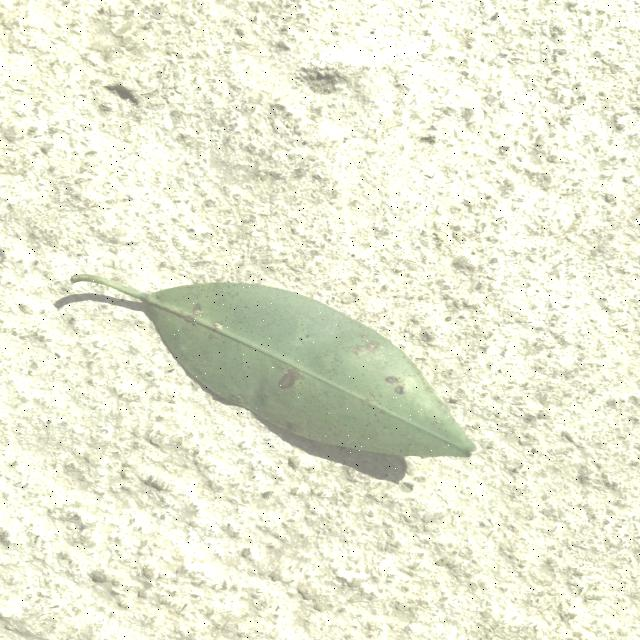canker: (164, 284, 461, 462)
